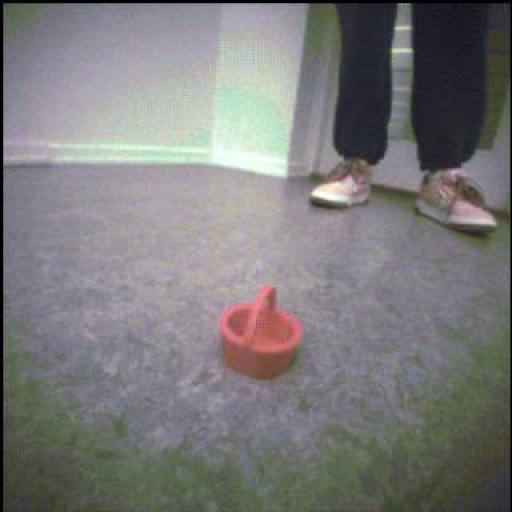Bucket: (217, 283, 308, 377)
